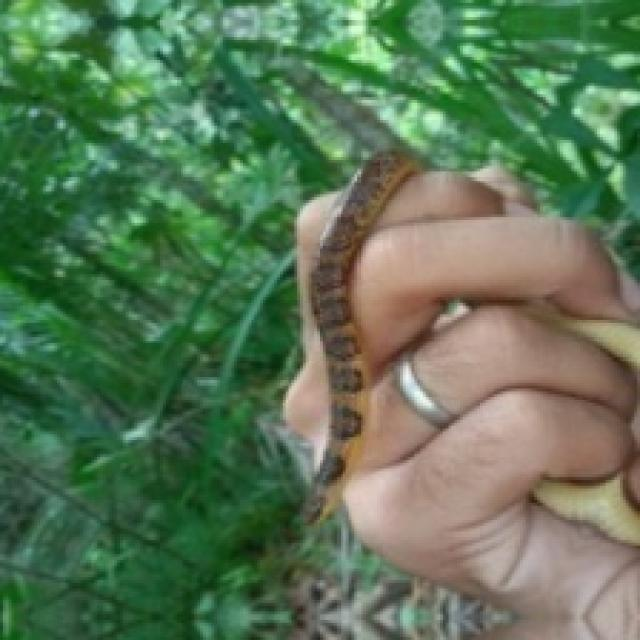luzon dwarf snake: (289, 151, 637, 543)
